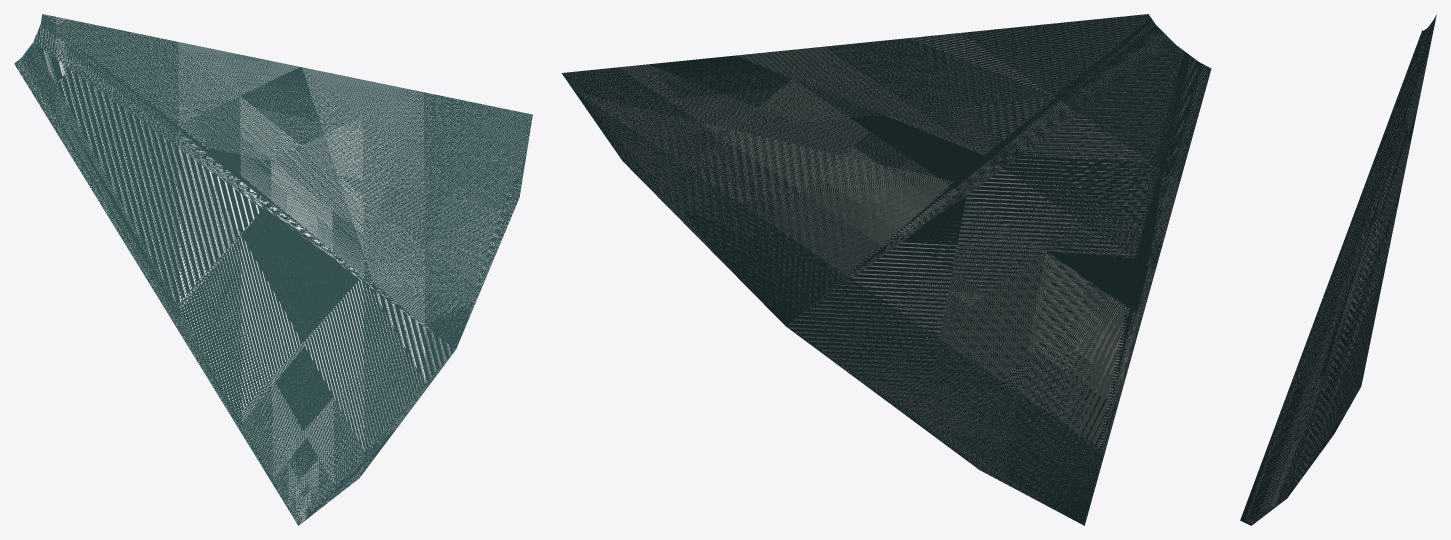
File: original-21.obj
3 views of the same model, side by side, from view 1: azimuth 30°, elevation 25°; view 2: azimuth 150°, elevation 25°; view 3: azimuth 270°, elevation 25° (orthographic). The views are drawn at different scales.
Parts seen in each view (by area): view 1: Group1/mesh7/mesh7-geometry/material_0#mesh7-geometry; view 2: Group1/mesh7/mesh7-geometry/material_0#mesh7-geometry; view 3: Group1/mesh7/mesh7-geometry/material_0#mesh7-geometry.
Boxes of the visible parts, x1,y1,x2,y2 form: Group1/mesh7/mesh7-geometry/material_0#mesh7-geometry: [14, 14, 532, 525]; Group1/mesh7/mesh7-geometry/material_0#mesh7-geometry: [561, 14, 1211, 525]; Group1/mesh7/mesh7-geometry/material_0#mesh7-geometry: [1240, 14, 1436, 525].
Bounding box in the file's own units: 0.069 × 0.0639 × 0.026.
